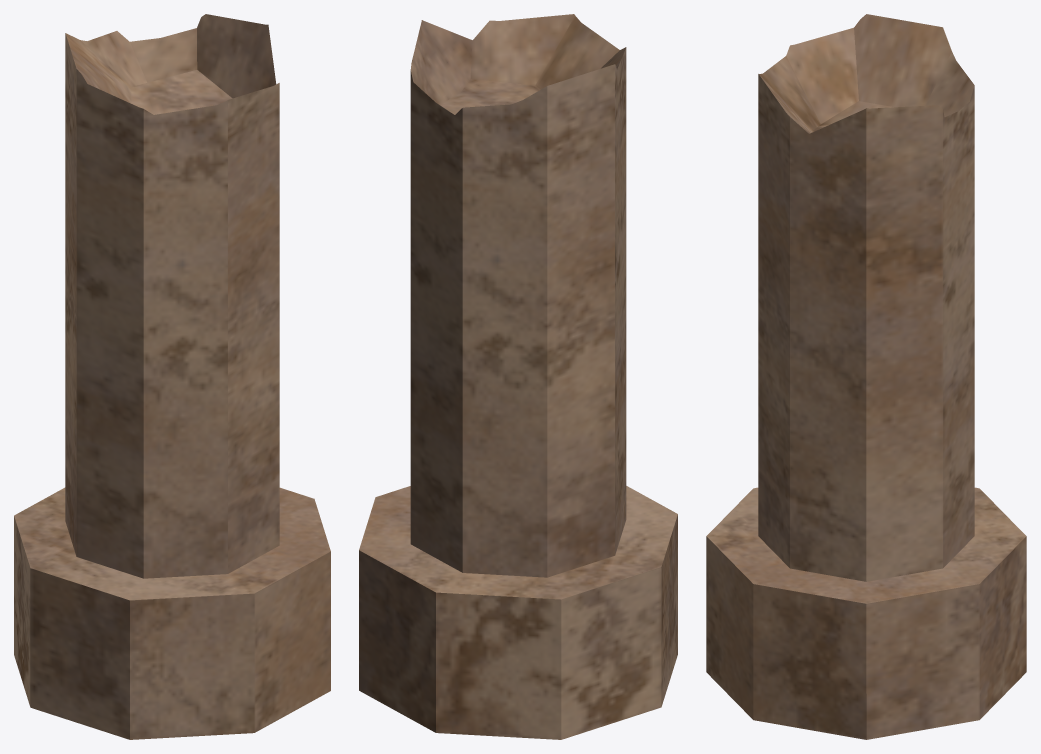
Rendered from Broken Pillar Part .fbx.
The picture shows the model from 3 angles, left to right: view 1: azimuth 30°, elevation 25°; view 2: azimuth 150°, elevation 25°; view 3: azimuth 270°, elevation 25°; orthographic projection. The views are drawn at different scales.
Parts seen in each view (by area): view 1: Cylinder.004; view 2: Cylinder.004; view 3: Cylinder.004.
Part boxes in pixels (x1=…): Cylinder.004: x1=14, y1=14, x2=330, y2=739; Cylinder.004: x1=359, y1=14, x2=677, y2=739; Cylinder.004: x1=706, y1=14, x2=1026, y2=739.
Bounding box in the file's own units: 158 × 335 × 158.
Materials: 1 (1 with a texture image).
